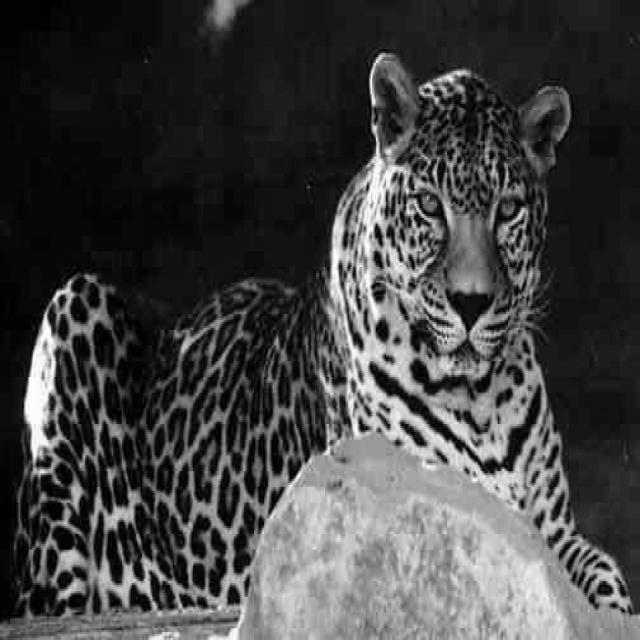Leopard: (11, 47, 634, 624)
